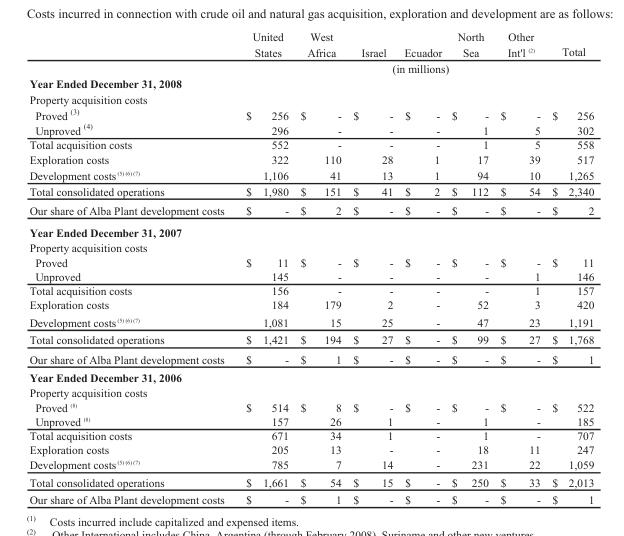table: (28, 29, 593, 505)
table column: (28, 29, 234, 505), (234, 29, 293, 505), (293, 29, 346, 505), (493, 29, 545, 505), (346, 29, 397, 505), (397, 29, 446, 505), (545, 29, 593, 505), (446, 29, 493, 505)
table column header: (28, 29, 593, 75)
table projected row header: (28, 220, 593, 239), (28, 367, 593, 384), (28, 75, 593, 91), (28, 239, 593, 254), (28, 384, 593, 399), (28, 91, 593, 105)
table row: (28, 29, 593, 59), (28, 200, 593, 220), (28, 220, 593, 239), (28, 330, 593, 349), (28, 182, 593, 200), (28, 349, 593, 367), (28, 313, 593, 330), (28, 367, 593, 384), (28, 456, 593, 473), (28, 473, 593, 490), (28, 59, 593, 75), (28, 75, 593, 91), (28, 105, 593, 121), (28, 121, 593, 137), (28, 166, 593, 182), (28, 297, 593, 313), (28, 151, 593, 166), (28, 239, 593, 254), (28, 254, 593, 269), (28, 282, 593, 297), (28, 384, 593, 399), (28, 399, 593, 414), (28, 490, 593, 505), (28, 91, 593, 105), (28, 137, 593, 151), (28, 414, 593, 428), (28, 428, 593, 442), (28, 442, 593, 456), (28, 269, 593, 282)
table spanning cell: (234, 59, 593, 75)
